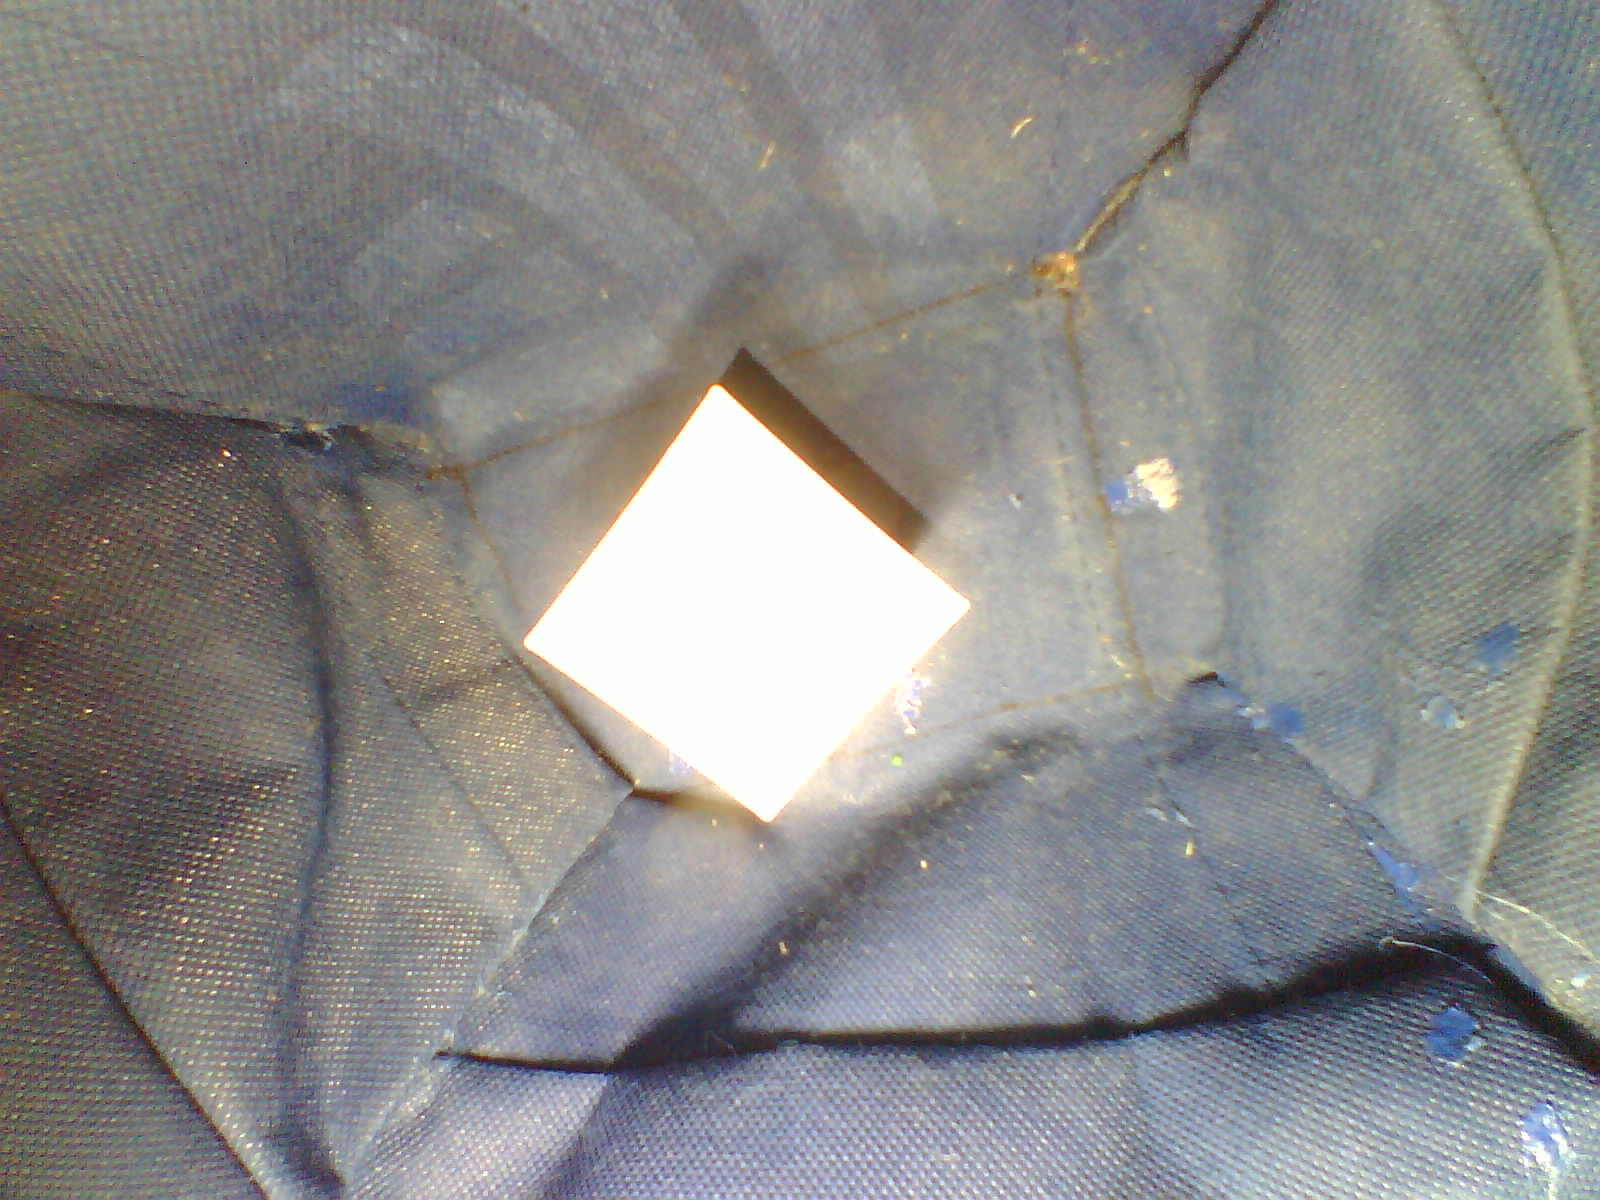cube-hard: (501, 368, 981, 833)
